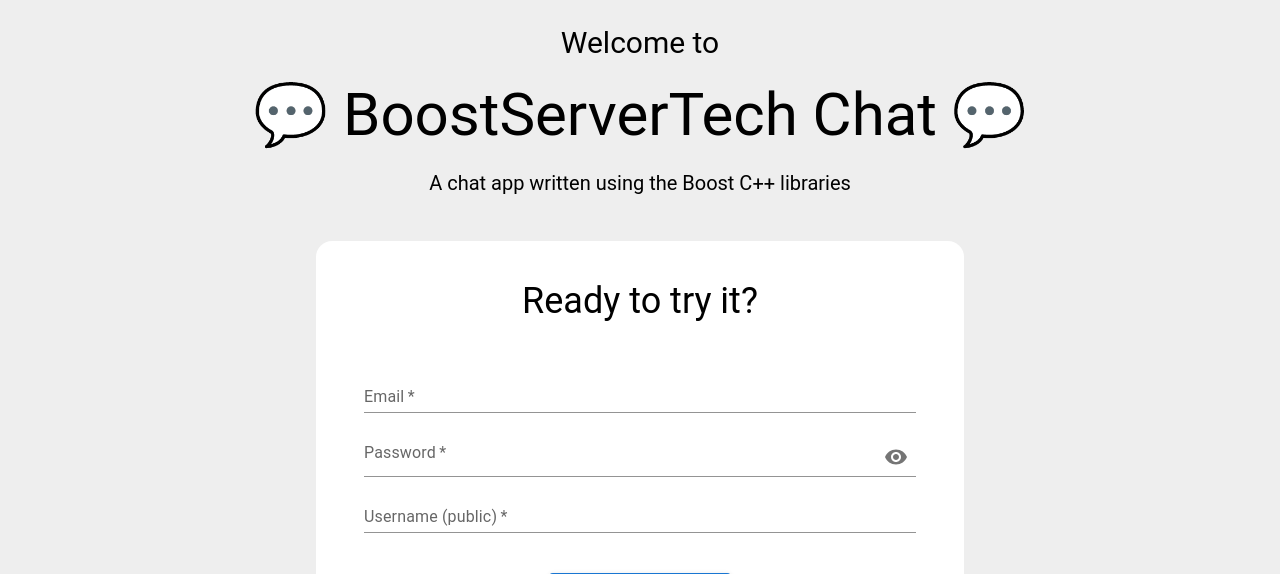
Scenario: CreateAccountPage page › Create account failure: EMAIL_EXISTS
Fill in the form and hit submit
Type "test@test.com" into the field labelled "Email". click: (640, 397)
box: [364,381,916,413]
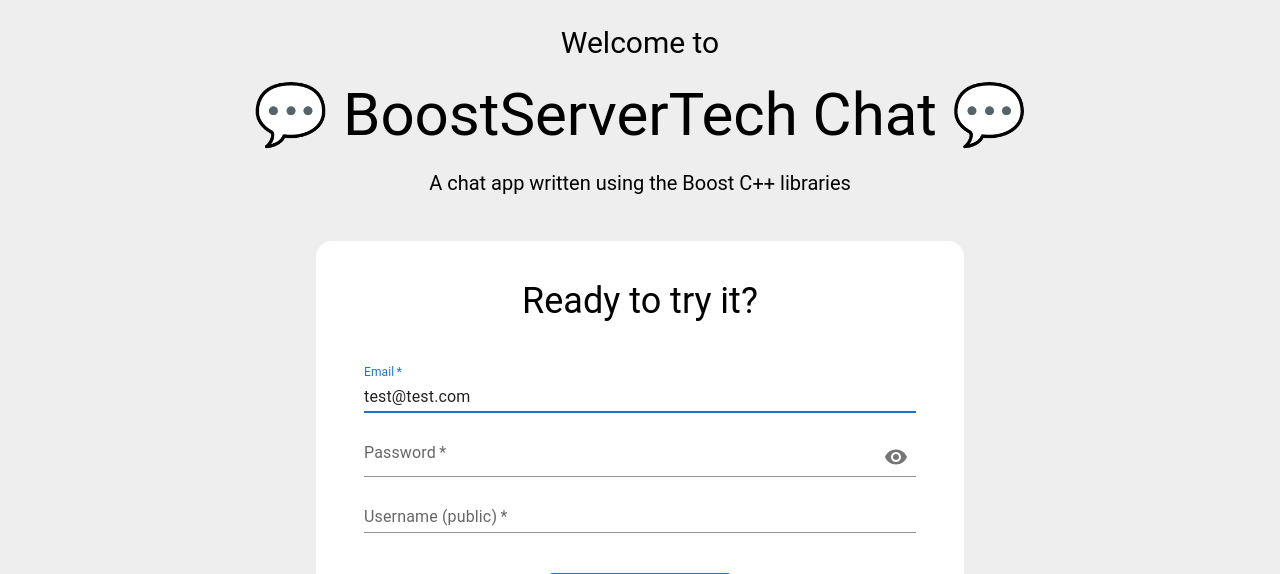
Type "Useruser10!" into the password field labelled "Password". click: (620, 457)
box: [364,441,876,473]
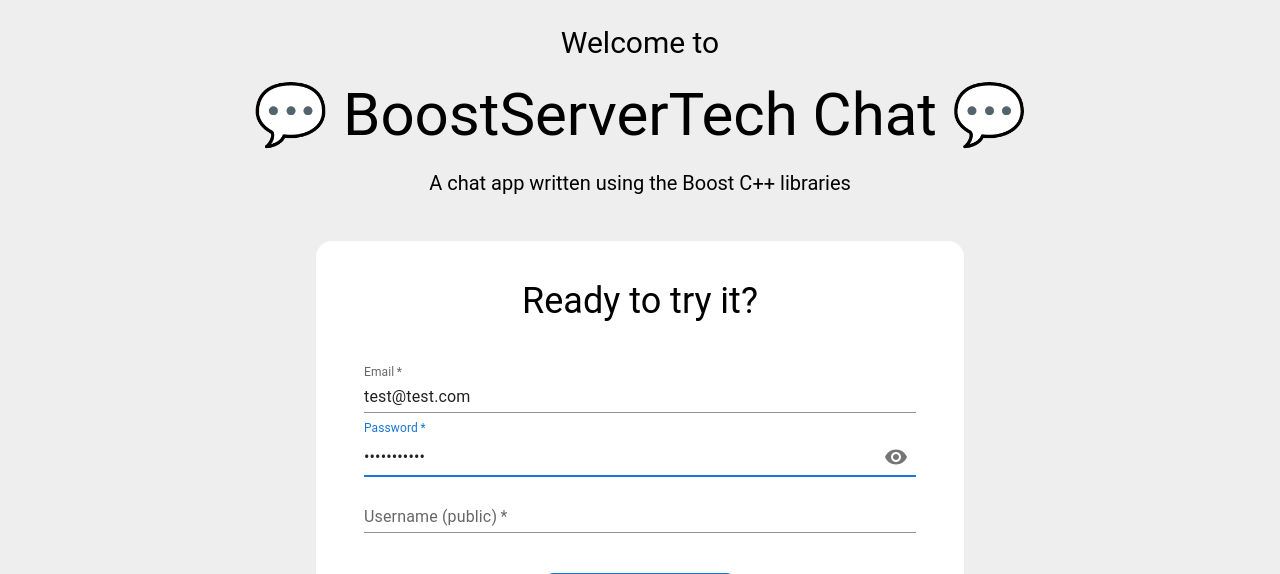
Type "somenickname" into the field labelled "Username". click: (640, 517)
box: [364,501,916,533]
(page scrolled)
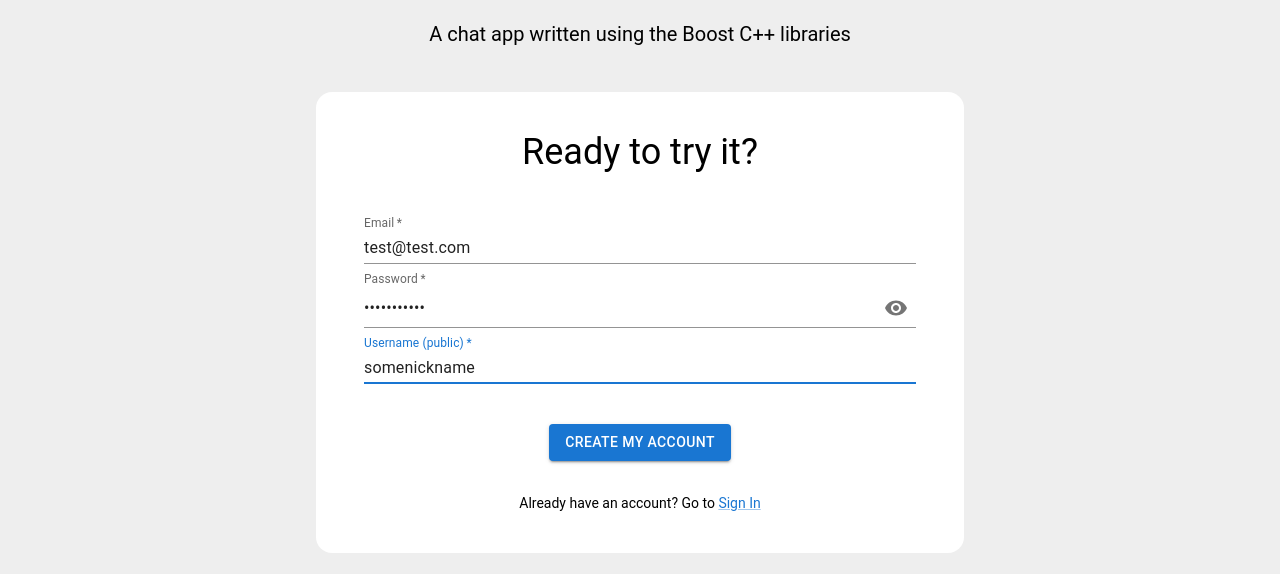
Click the button "Create my account". click: (640, 442)
box: [549,424,731,460]
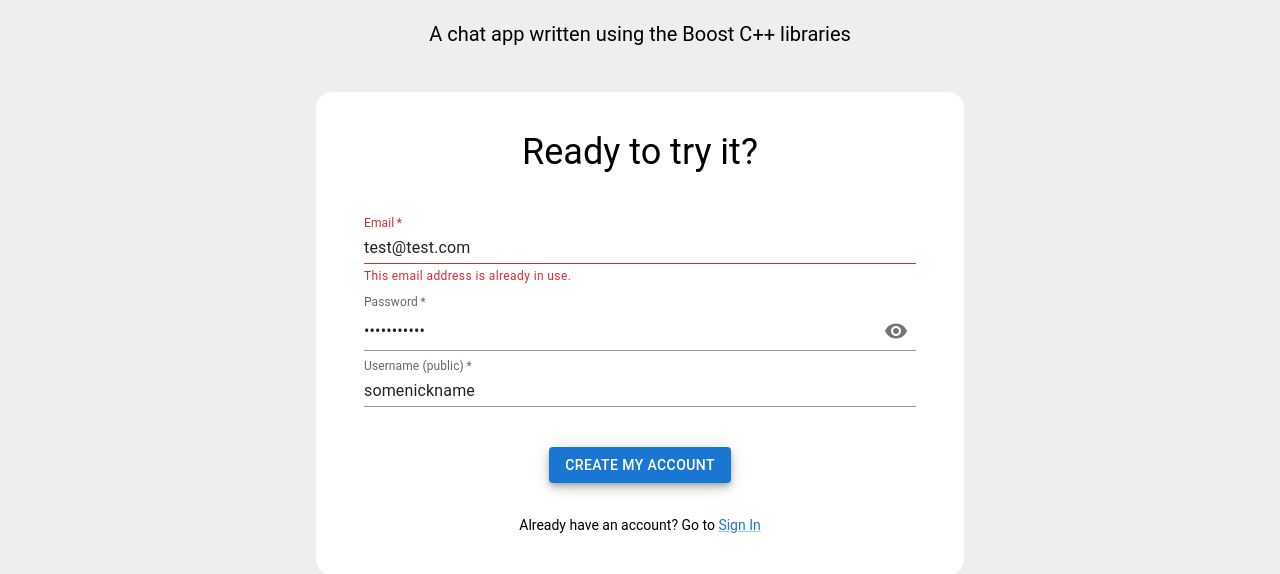
Check: the text "This email address is already in use." is shown, box [364,269,571,283]
